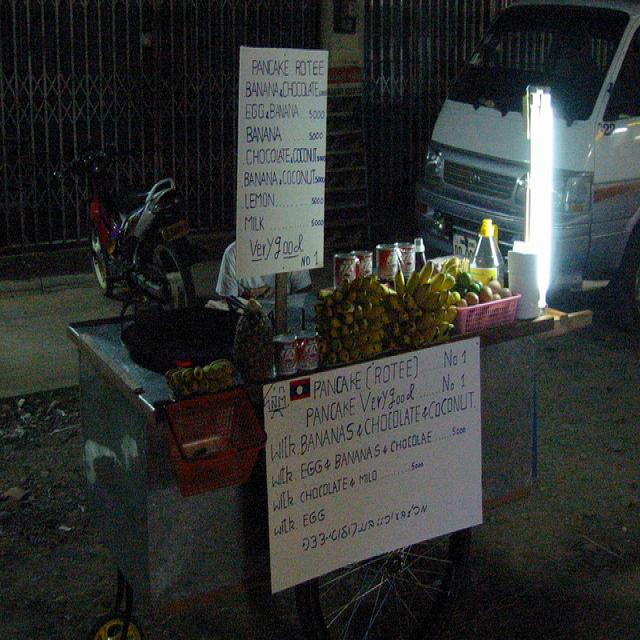Motorbike: (55, 143, 202, 318)
